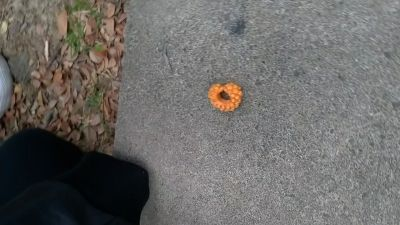eggs: (206, 80, 243, 113)
